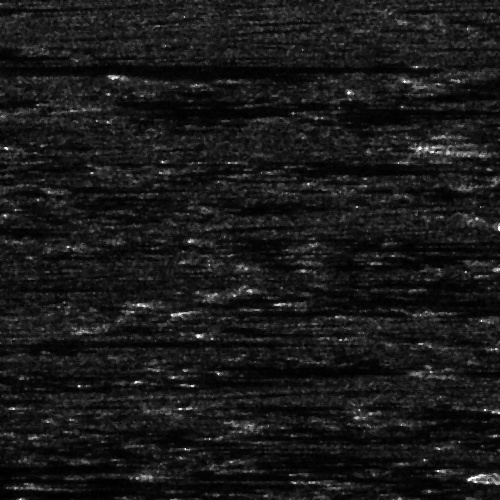object: (412, 399, 500, 416), (395, 142, 500, 153), (383, 365, 488, 376), (417, 469, 500, 482), (107, 295, 200, 306), (161, 304, 244, 315), (8, 478, 81, 487), (404, 308, 467, 313), (262, 298, 315, 303), (0, 339, 6, 342)
shadow: (203, 304, 376, 315), (45, 478, 249, 487), (154, 295, 268, 306), (0, 488, 124, 497), (289, 298, 500, 303), (0, 339, 304, 342), (436, 365, 500, 376), (0, 222, 55, 233), (436, 308, 500, 313)
